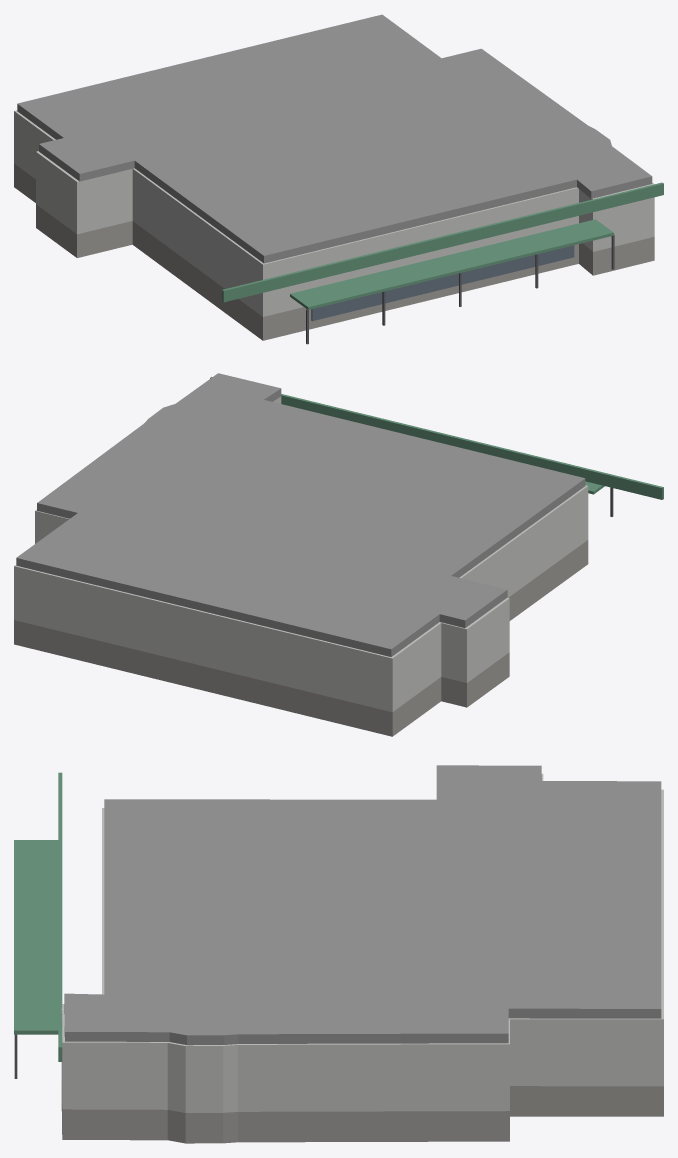
Rendered from landmark-kandern-hieber.glb.
The picture shows the model from 3 angles, top to bottom: view 1: azimuth 30°, elevation 25°; view 2: azimuth 150°, elevation 25°; view 3: azimuth 270°, elevation 25°; orthographic projection. The views are drawn at different scales.
Visible parts, largest first — view 1: building; view 2: building; view 3: building.
Part boxes in pixels (x1,y1,x2,y2): building: (14,14,663,344); building: (14,373,663,736); building: (14,765,663,1143).
Bounding box in the file's own units: 48.38 × 8.8 × 48.38.
